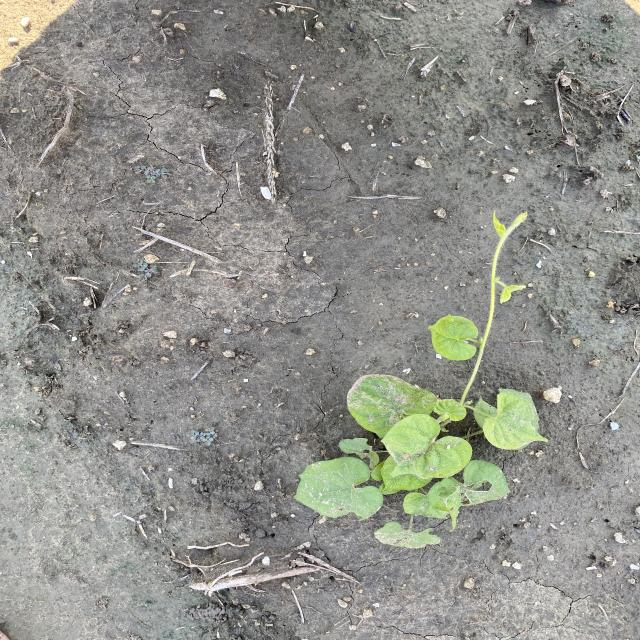MorningGlory: (291, 209, 552, 550)
